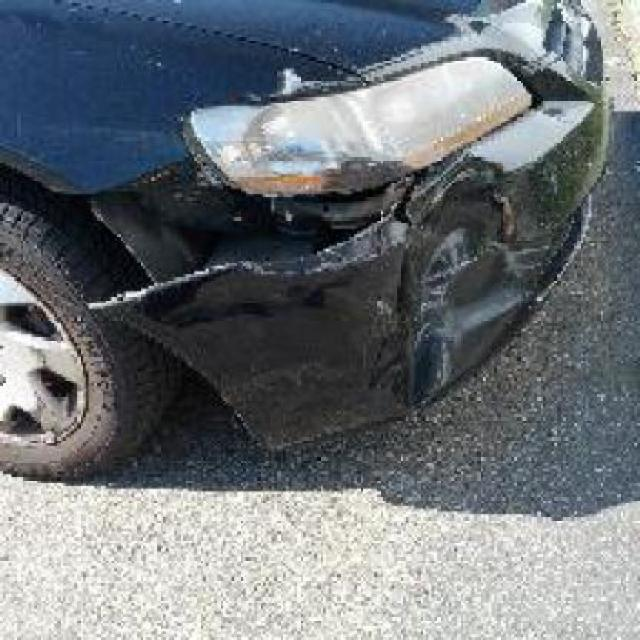damaged-front-bumper: (162, 48, 596, 407)
